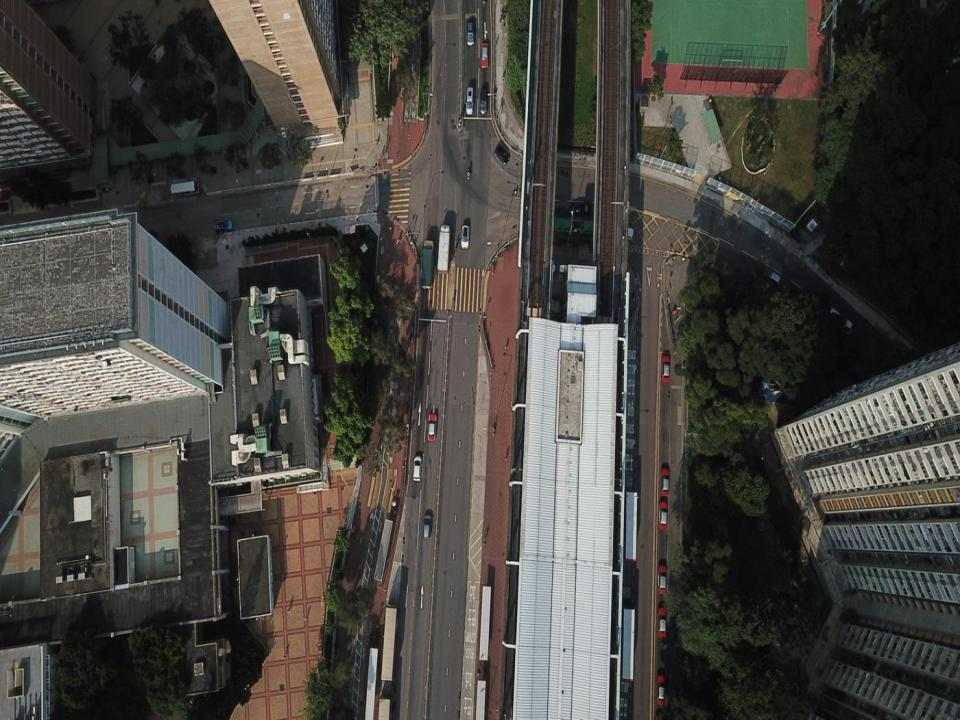bus: (380, 603, 398, 682), (624, 489, 638, 563), (623, 606, 635, 682)
car: (760, 266, 786, 290), (655, 674, 666, 706), (494, 146, 510, 166), (657, 606, 667, 638), (412, 454, 423, 483), (660, 354, 671, 383), (657, 564, 667, 595), (658, 500, 668, 530), (660, 468, 670, 497), (569, 202, 591, 215), (616, 225, 633, 241), (428, 412, 437, 441), (465, 86, 474, 115), (481, 41, 490, 69), (214, 218, 232, 232), (423, 514, 433, 539), (461, 224, 470, 249), (480, 87, 488, 115), (466, 21, 474, 47)
truck: (420, 239, 436, 290), (437, 224, 451, 274)
van: (170, 180, 200, 197)
